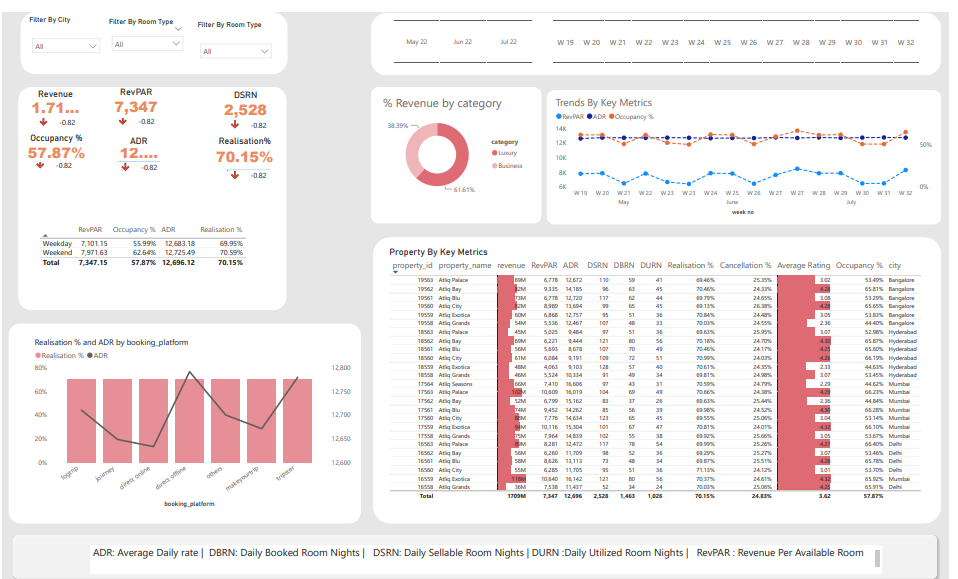

The page's visual inventory and layout, read from the dashboard file:
{"tool":"powerbi","page":{"name":"Page 1","canvas":[1755,1070],"ordinal":0},"visuals":[{"type":"shape","title":"Property y  key Metrics","box":[688,418,1054,532],"z":0},{"type":"shape","box":[12,578,654,372],"z":1000},{"type":"shape","box":[684,139.3,316.7,253.3],"z":2000},{"type":"shape","box":[30,139,497.5,415],"z":3000},{"type":"shape","box":[34,0,496,116],"z":4000},{"type":"tableEx","title":"Property  By Key Metrics","fields":{"Values":["dim_hotels.property_id","dim_hotels.property_name","key_measures.revenue","key_measures.RevPAR","key_measures.ADR","key_measures.DSRN","key_measures.DBRN","key_measures.DURN","key_measures.Realisation %","key_measures.Cancellation %","key_measures.Average Rating","key_measures.Occupancy %"]},"box":[714,436,1010,476],"z":5000},{"type":"slicer","title":"Filter By Room Type","fields":{"Values":["dim_rooms.room_class"]},"box":[194,10,152,82],"z":6000},{"type":"slicer","title":"Filter By City","fields":{"Values":["dim_hotels.city"]},"box":[46,6,146,78],"z":7000},{"type":"donutChart","title":"% Revenue by category","fields":{"Category":["dim_hotels.category"],"Y":["key_measures.revenue"]},"box":[702.3,152.7,278.3,201.7],"z":8000},{"type":"lineStackedColumnComboChart","fields":{"Category":["fact_bookings.booking_platform"],"Y2":["key_measures.ADR"],"Y":["key_measures.Realisation %"]},"box":[56,602,596,322],"z":9000},{"type":"tableEx","fields":{"Values":["dim_date.day_type","key_measures.RevPAR","key_measures.Occupancy %","key_measures.ADR","key_measures.Realisation %"]},"box":[65,389,427.5,100],"z":10000},{"type":"tableEx","fields":{"Values":["key_measures.Revenue WoW change %"]},"box":[58.3,162.3,88.3,66.7],"z":11000},{"type":"card","title":"Revenue","fields":{"Values":["key_measures.revenue"]},"box":[46.7,142.3,105,53.3],"z":12000},{"type":"tableEx","fields":{"Values":["key_measures.Revenue WoW change %"]},"box":[204.8,159.8,88.3,80],"z":13000},{"type":"tableEx","fields":{"Values":["key_measures.Revenue WoW change %"]},"box":[413.3,167.3,88.3,80],"z":14000},{"type":"tableEx","fields":{"Values":["key_measures.Revenue WoW change %"]},"box":[51.7,240.7,101.7,75],"z":15000},{"type":"tableEx","fields":{"Values":["key_measures.Revenue WoW change %"]},"box":[210,245.7,88.3,65],"z":16000},{"type":"tableEx","fields":{"Values":["key_measures.Revenue WoW change %"]},"box":[413.3,260.7,88.3,83.3],"z":17000},{"type":"card","title":"RevPAR","fields":{"Values":["key_measures.RevPAR"]},"box":[199,139.1,100,56.7],"z":18000},{"type":"card","title":"DSRN","fields":{"Values":["key_measures.DSRN"]},"box":[401.7,144,100,56.7],"z":19000},{"type":"card","title":"Occupancy %","fields":{"Values":["key_measures.Occupancy %"]},"box":[40,224,123.3,55],"z":20000},{"type":"card","title":"ADR","fields":{"Values":["key_measures.ADR"]},"box":[210,229,88.3,46.7],"z":21000},{"type":"card","title":"Realisation%","fields":{"Values":["key_measures.Realisation %"]},"box":[388.3,229,125,63.3],"z":22000},{"type":"shape","box":[684,2,1058,116],"z":23000},{"type":"slicer","fields":{"Values":["dim_date.mmm yy"]},"box":[702,8,304,94],"z":24000},{"type":"slicer","fields":{"Values":["dim_date.week no"]},"box":[996,8,728,94],"z":25000},{"type":"shape","box":[1010.3,144.7,731.7,250],"z":26000},{"type":"lineChart","title":"Trends By Key Metrics","fields":{"Category":["dim_date.mmm yy.Variation.Date Hierarchy.Month","dim_date.week no"],"Y":["key_measures.RevPAR","key_measures.ADR"],"Y2":["key_measures.Occupancy %"]},"box":[1022,154.7,708.3,228.3],"z":27000},{"type":"shape","box":[12,962,1730,98],"z":28000},{"type":"textbox","box":[164,990,1468,52],"z":30000},{"type":"slicer","title":"Filter By Room Type","fields":{"Values":["dim_rooms.room_class"]},"box":[358,16,152,82],"z":31000}]}

Visuals, with their boxes in screenshot pixels (x1, y1, x2, y2), scaled from the page's 1755x1070 canvas onto the 958x579 screenshot:
"Property y  key Metrics" shape: [x1=376, y1=226, x2=951, y2=514]
shape: [x1=7, y1=313, x2=364, y2=514]
shape: [x1=373, y1=75, x2=546, y2=212]
shape: [x1=16, y1=75, x2=288, y2=300]
shape: [x1=19, y1=0, x2=289, y2=63]
"Property  By Key Metrics" tableEx: [x1=390, y1=236, x2=941, y2=494]
"Filter By Room Type" slicer: [x1=106, y1=5, x2=189, y2=50]
"Filter By City" slicer: [x1=25, y1=3, x2=105, y2=45]
"% Revenue by category" donutChart: [x1=383, y1=83, x2=535, y2=192]
lineStackedColumnComboChart - fact_bookings.booking_platform x key_measures.ADR: [x1=31, y1=326, x2=356, y2=500]
tableEx - dim_date.day_type x key_measures.RevPAR: [x1=35, y1=210, x2=269, y2=265]
tableEx - key_measures.Revenue WoW change %: [x1=32, y1=88, x2=80, y2=124]
"Revenue" card: [x1=25, y1=77, x2=83, y2=106]
tableEx - key_measures.Revenue WoW change %: [x1=112, y1=86, x2=160, y2=130]
tableEx - key_measures.Revenue WoW change %: [x1=226, y1=91, x2=274, y2=134]
tableEx - key_measures.Revenue WoW change %: [x1=28, y1=130, x2=84, y2=171]
tableEx - key_measures.Revenue WoW change %: [x1=115, y1=133, x2=163, y2=168]
tableEx - key_measures.Revenue WoW change %: [x1=226, y1=141, x2=274, y2=186]
"RevPAR" card: [x1=109, y1=75, x2=163, y2=106]
"DSRN" card: [x1=219, y1=78, x2=274, y2=109]
"Occupancy %" card: [x1=22, y1=121, x2=89, y2=151]
"ADR" card: [x1=115, y1=124, x2=163, y2=149]
"Realisation%" card: [x1=212, y1=124, x2=280, y2=158]
shape: [x1=373, y1=1, x2=951, y2=64]
slicer - dim_date.mmm yy: [x1=383, y1=4, x2=549, y2=55]
slicer - dim_date.week no: [x1=544, y1=4, x2=941, y2=55]
shape: [x1=551, y1=78, x2=951, y2=214]
"Trends By Key Metrics" lineChart: [x1=558, y1=84, x2=945, y2=207]
shape: [x1=7, y1=521, x2=951, y2=574]
textbox: [x1=90, y1=536, x2=891, y2=564]
"Filter By Room Type" slicer: [x1=195, y1=9, x2=278, y2=53]
